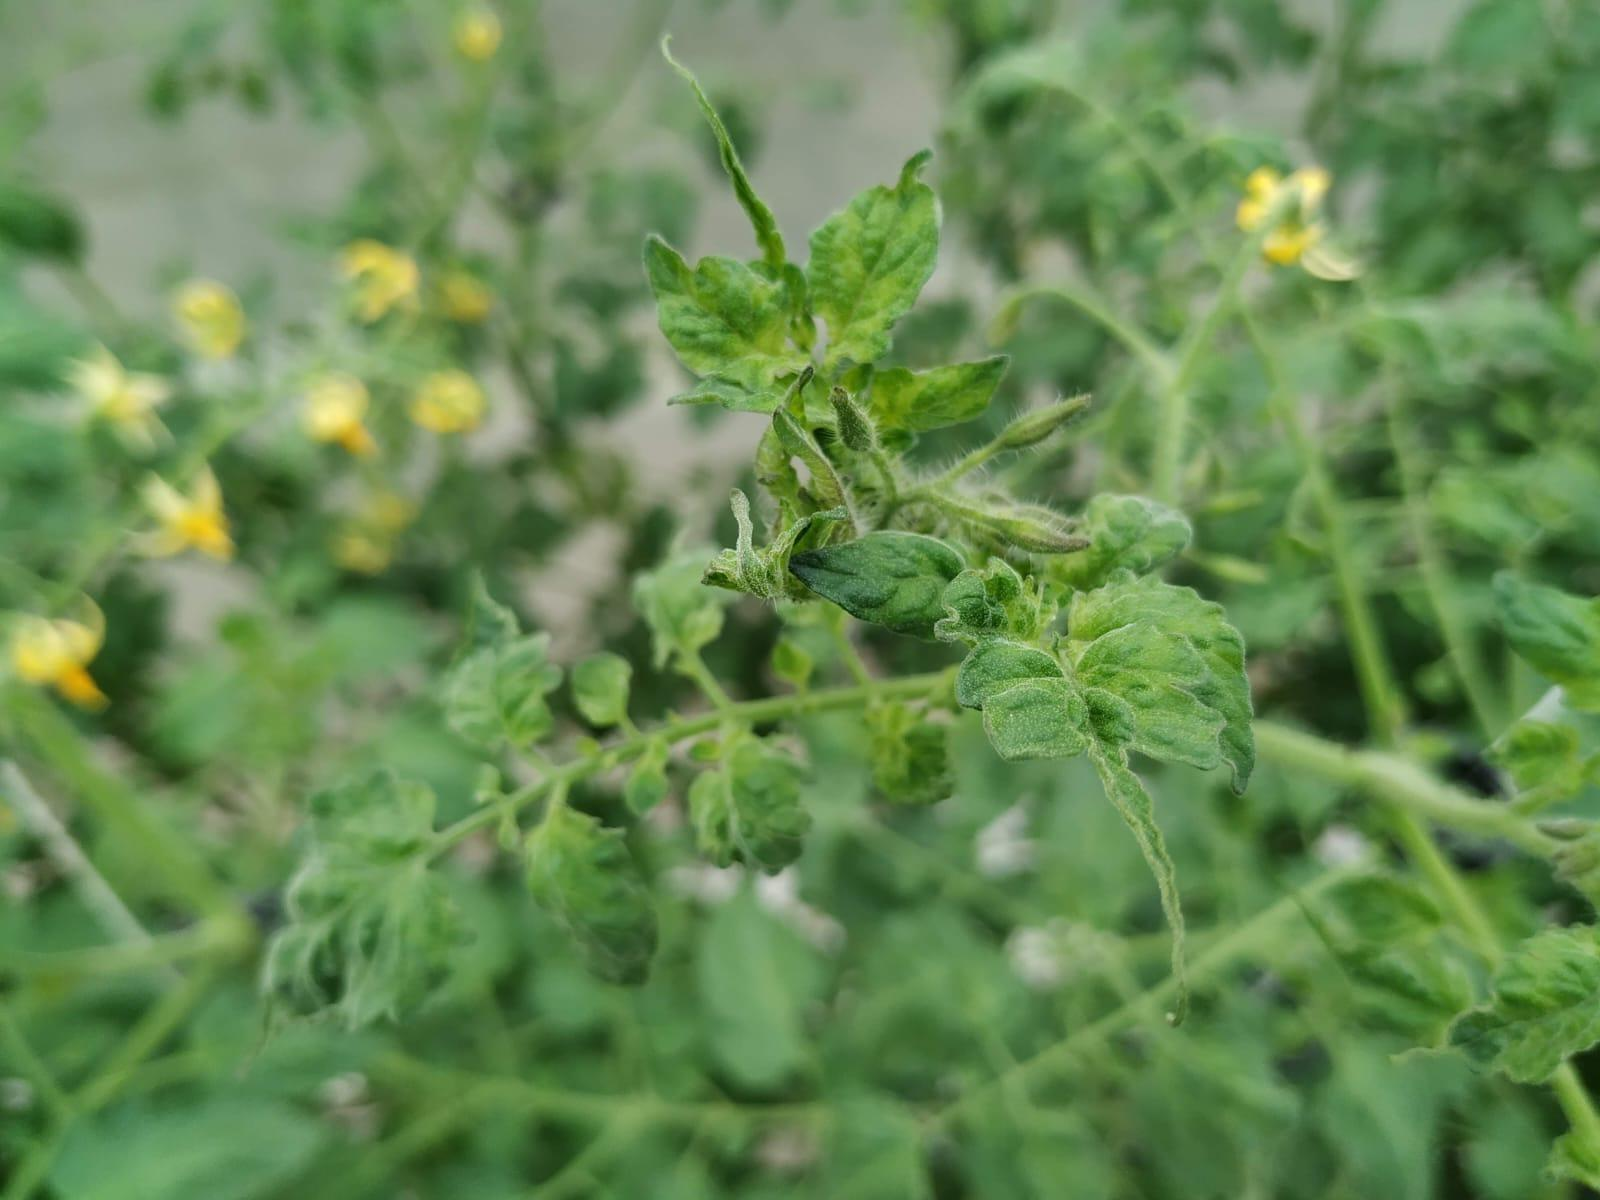Rugose Flower: (828, 384, 878, 453)
Rugose leaf: (1068, 579, 1256, 790), (644, 237, 809, 411), (806, 153, 941, 361), (956, 638, 1089, 759), (869, 357, 1009, 431)
